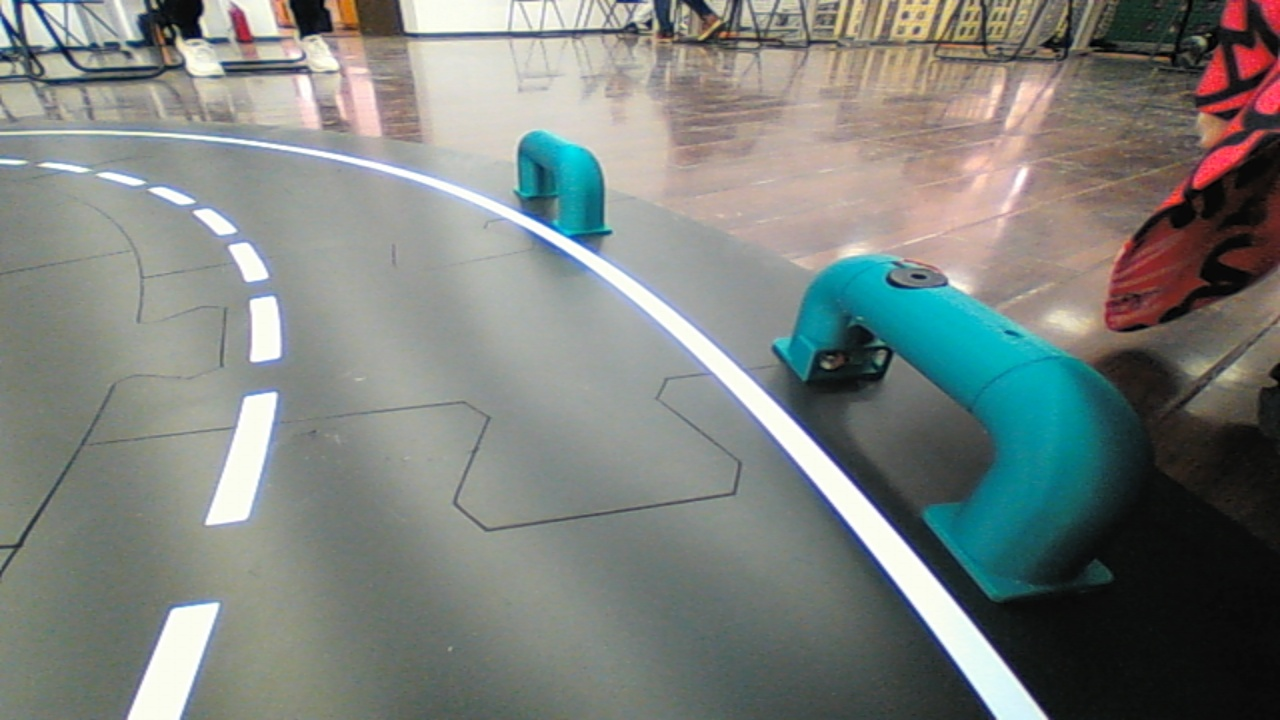No entry: (506, 122, 611, 256)
Pedestrian crossing: (760, 225, 1164, 609)
